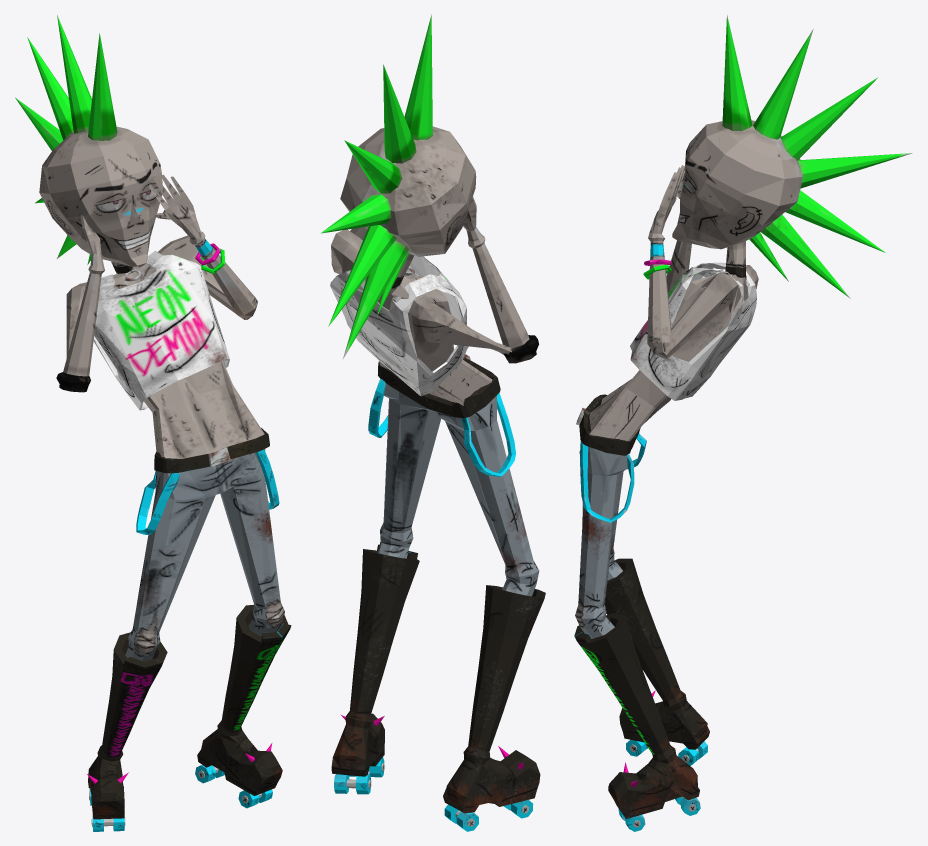
File: punkAnimation_000014.obj
The picture shows the model from 3 angles, left to right: view 1: azimuth 30°, elevation 25°; view 2: azimuth 150°, elevation 25°; view 3: azimuth 270°, elevation 25°; orthographic projection. The views are drawn at different scales.
Parts seen in each view (by area): view 1: Cube.004_Cube.003; view 2: Cube.004_Cube.003; view 3: Cube.004_Cube.003.
Boxes of the visible parts, left/top/right/bottom form: Cube.004_Cube.003: left=15, top=15, right=291, bottom=831; Cube.004_Cube.003: left=320, top=14, right=545, bottom=831; Cube.004_Cube.003: left=574, top=15, right=912, bottom=831.
Bounding box in the file's own units: 1.93 × 7.14 × 2.9.
